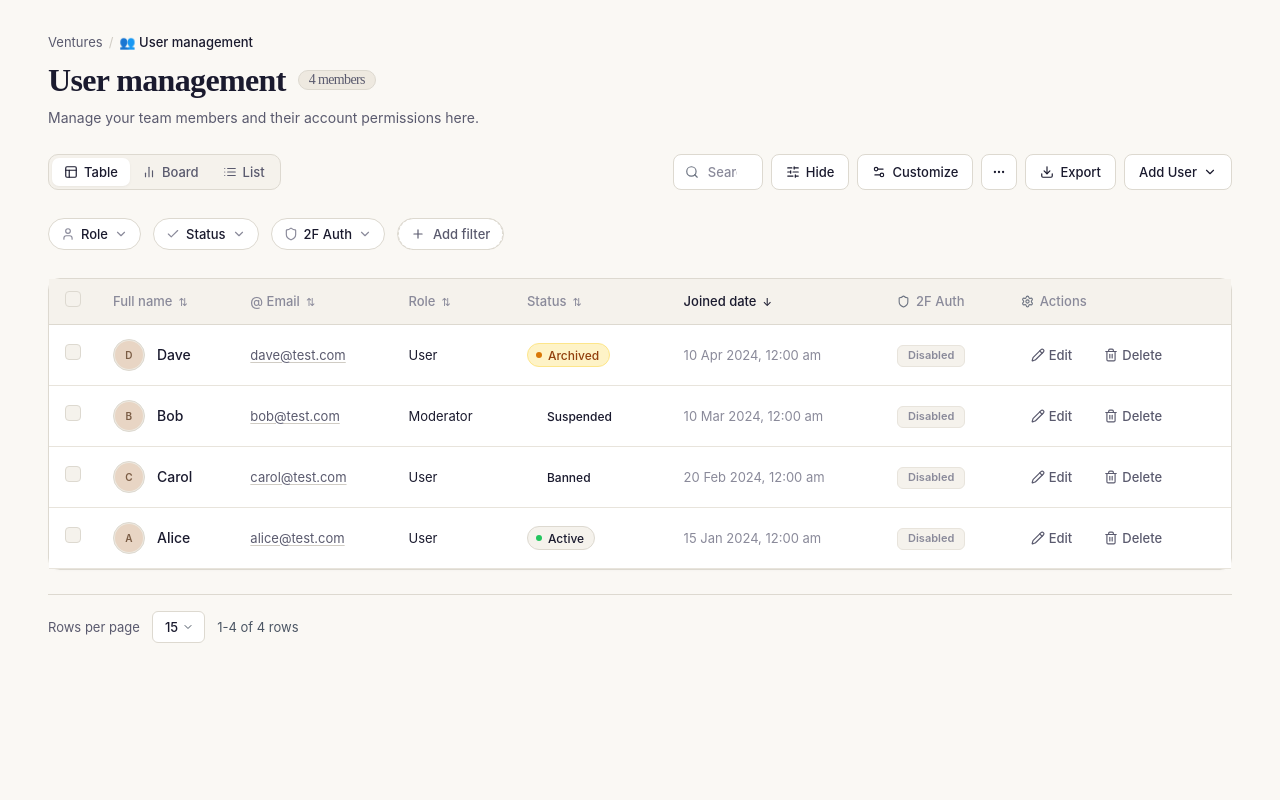
Test: AdminUsersClient — checkbox selection › shows selection bar when a row is checked
Click the checkbox named "select alice": [73, 536] box [65, 528, 81, 544]
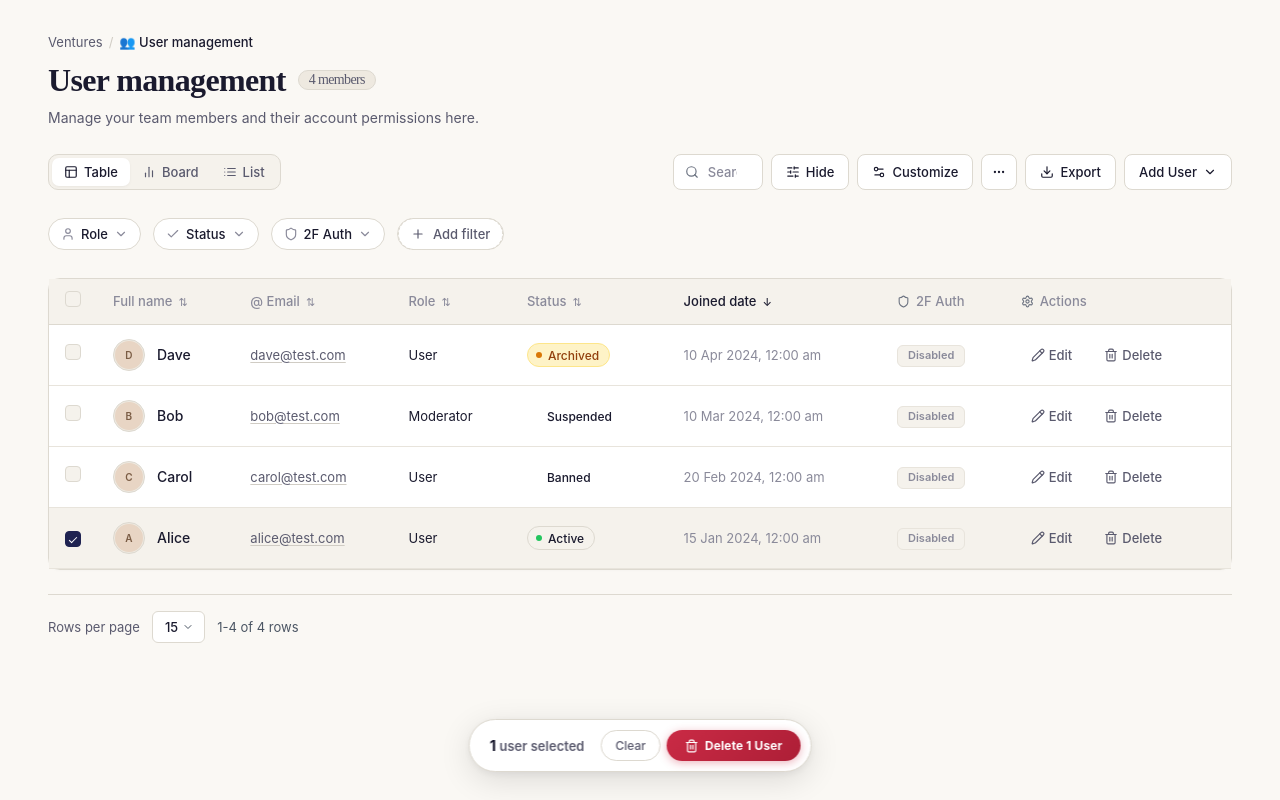
Result: the message "1 user selected Clear Delete 1 User" is shown at [469, 719, 811, 772]
Result: the message shows "1" at [490, 736, 496, 754]
